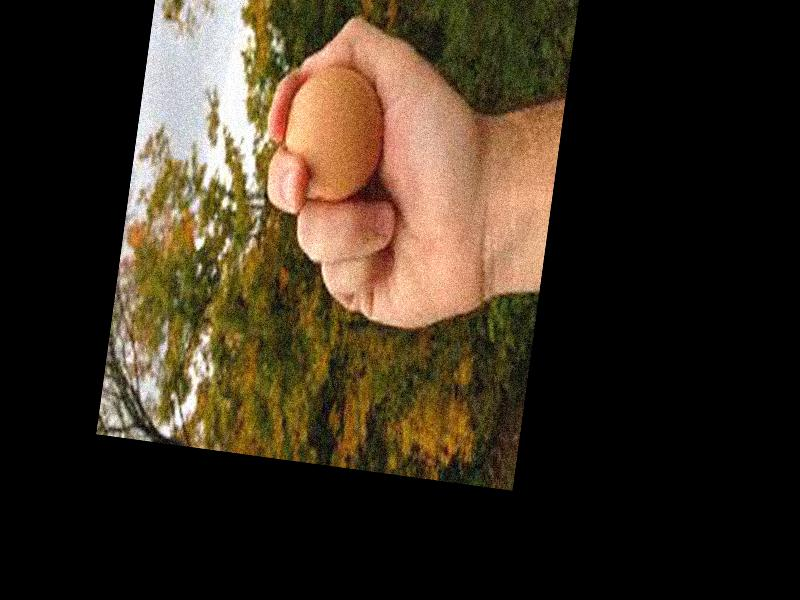Eggs: (277, 62, 390, 212)
